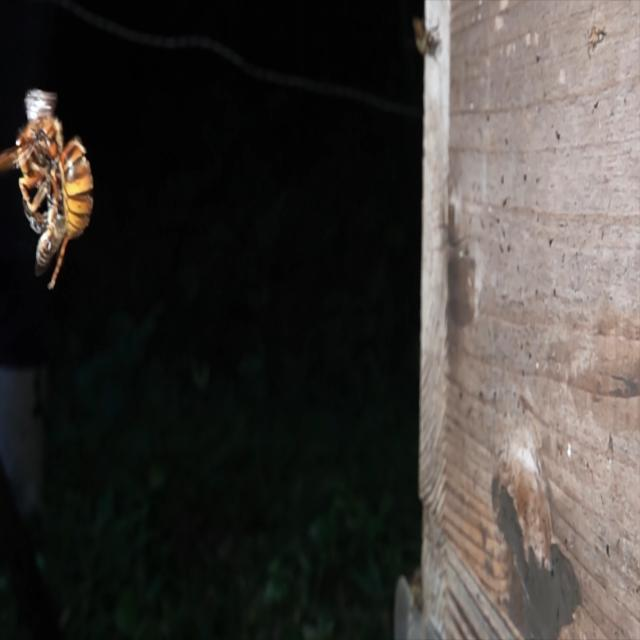Bees: (23, 198, 66, 278)
Hornets: (0, 88, 93, 296)
